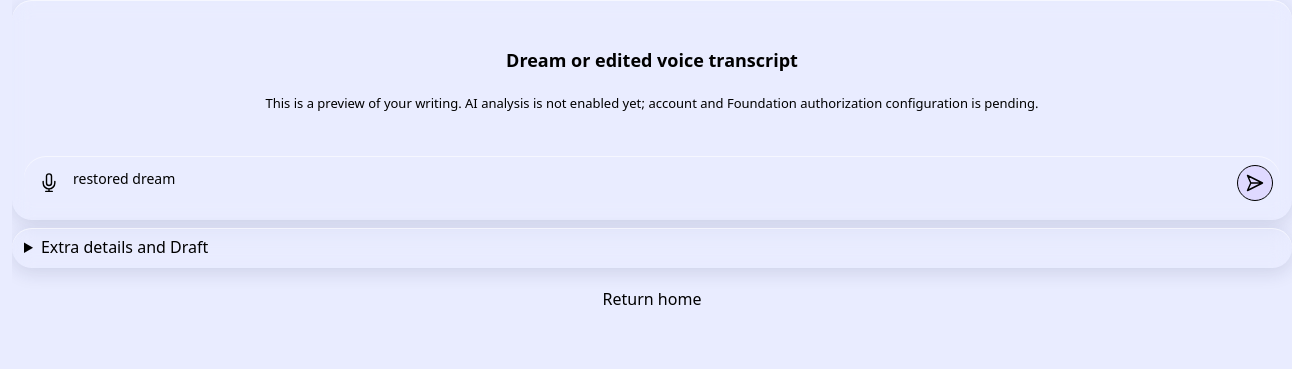
it: rejects a malformed restored dream without submitting it to analysis
The image size is (1292, 369).
Click the button named "Send". click: (1255, 183)
box: [1237,165,1273,201]
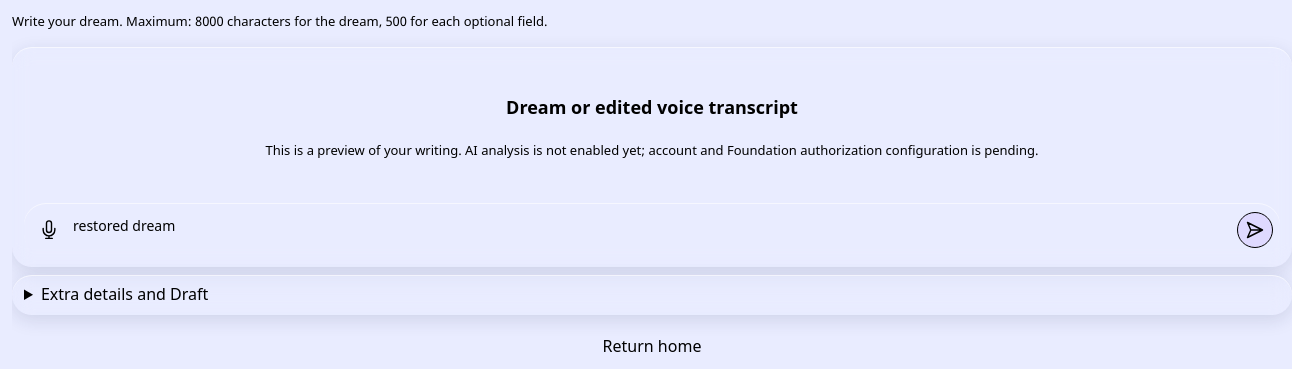
Check: the message is shown, box [12,14,548,31]
